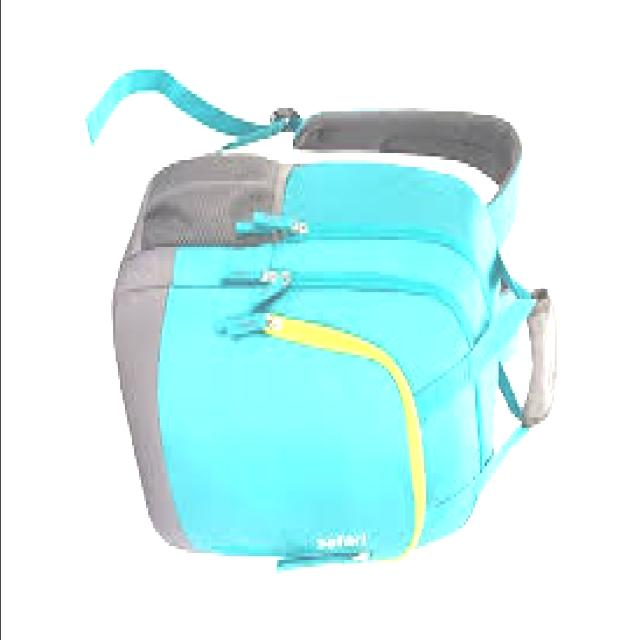backpack: (88, 67, 560, 575)
